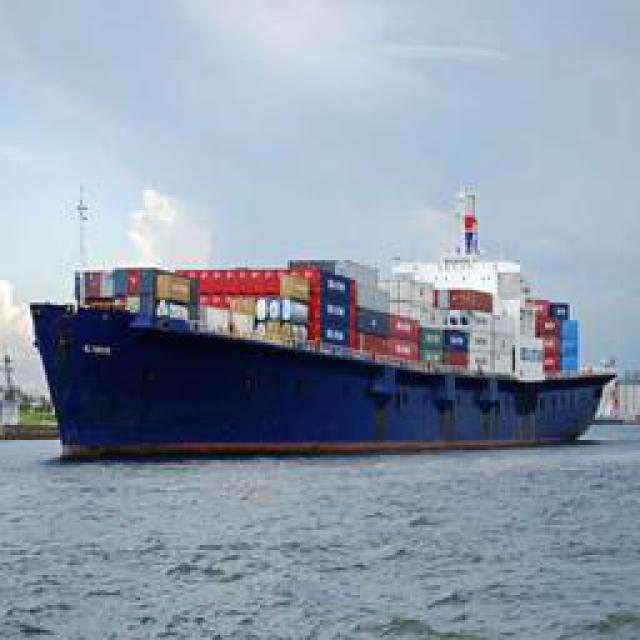Ship: (31, 185, 616, 453)
